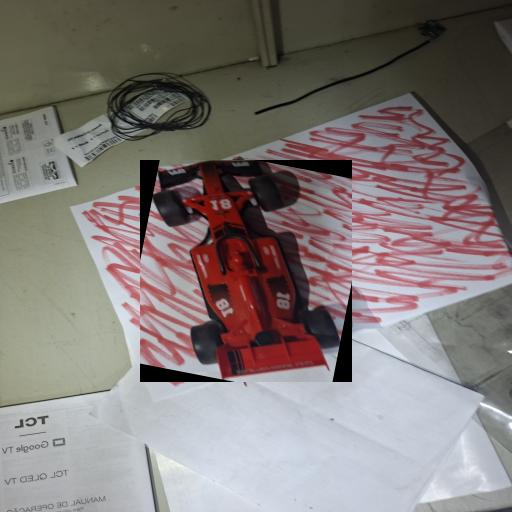carro: (140, 160, 350, 381)
